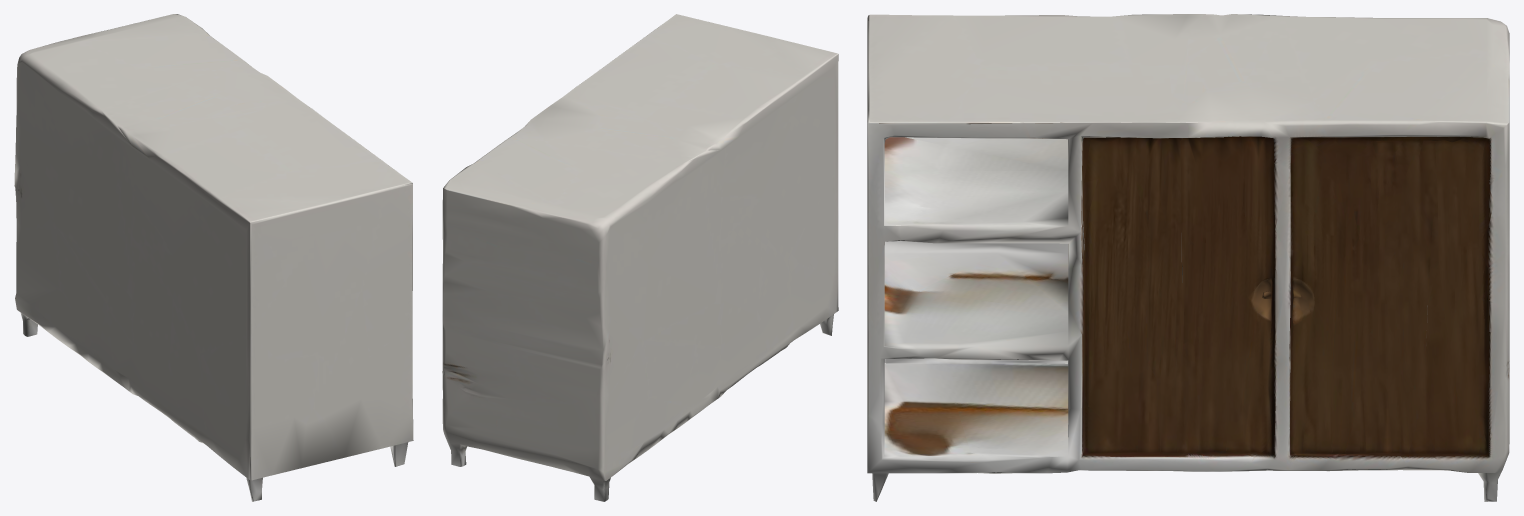
Rendered from mueble 4.fbx.
The picture shows the model from 3 angles, left to right: view 1: azimuth 30°, elevation 25°; view 2: azimuth 150°, elevation 25°; view 3: azimuth 270°, elevation 25°; orthographic projection. The views are drawn at different scales.
Visible parts, largest first — view 1: tripo_node_d712027d; view 2: tripo_node_d712027d; view 3: tripo_node_d712027d.
Part boxes in pixels (bbox=[...]): tripo_node_d712027d: bbox=[14, 14, 413, 501]; tripo_node_d712027d: bbox=[442, 14, 838, 501]; tripo_node_d712027d: bbox=[867, 14, 1509, 501].
Size of the model in its own units: 0.4015 by 0.6603 by 0.9999.
1 material, 1 textured.
